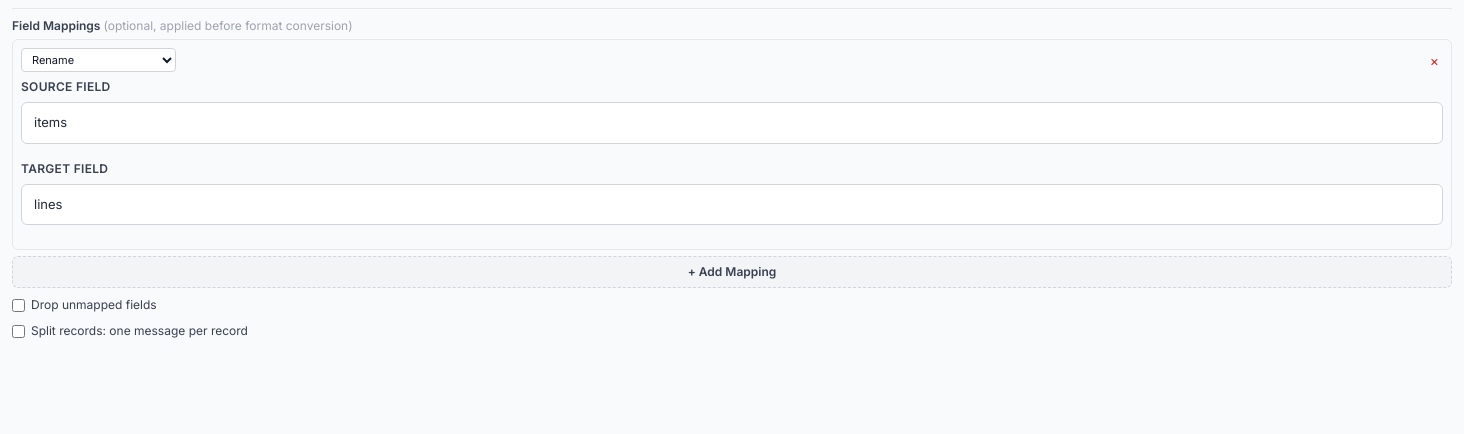
Test case: mapping type select › switching a row to each shows the item mappings
Select "Each (map array items)" in the dropdown named "Type of mapping 1 (items → lines)" at [98, 60], box [21, 48, 176, 72]
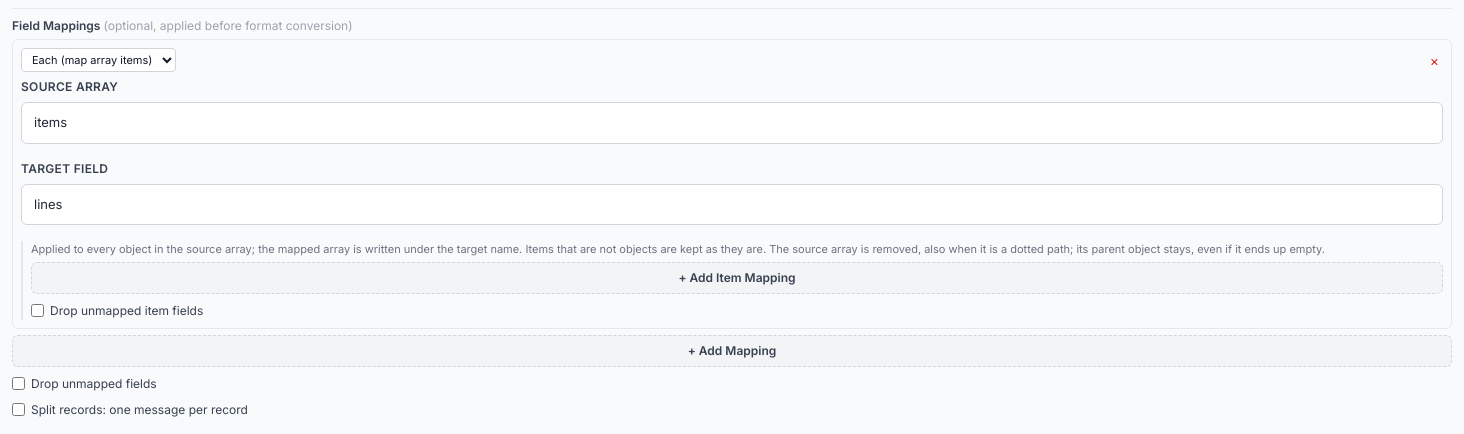
Now the number of elements named "Item mappings" is 1, box [21, 241, 1443, 320]
